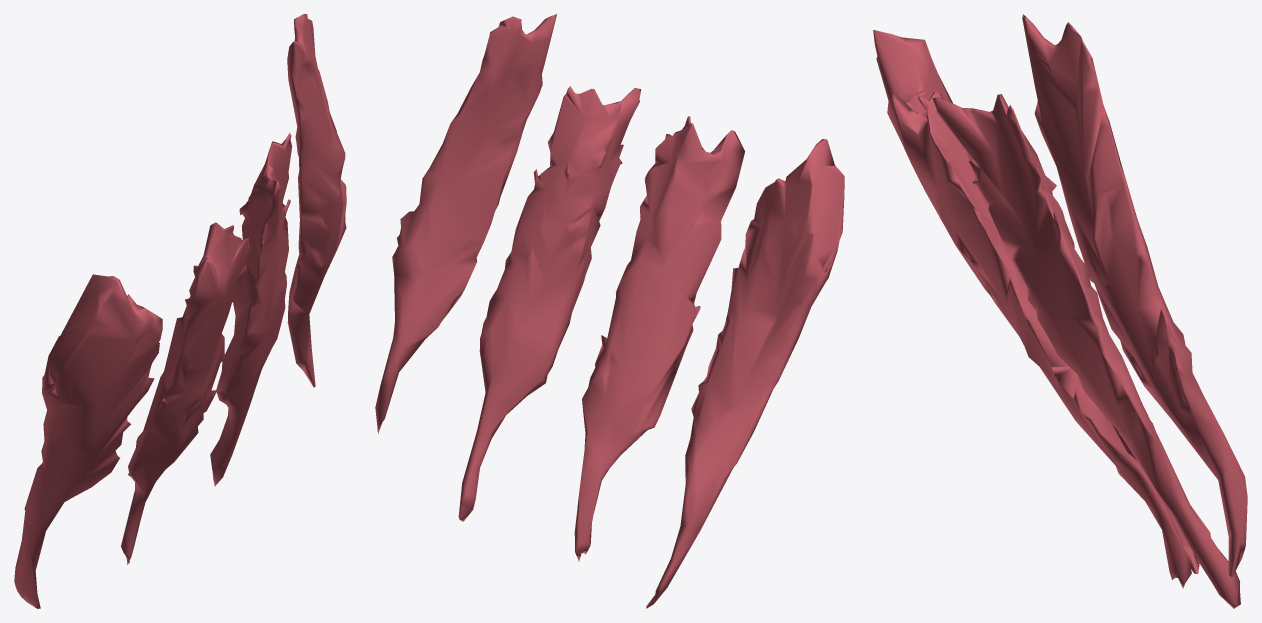
3 views of the same model, side by side, from view 1: azimuth 30°, elevation 25°; view 2: azimuth 150°, elevation 25°; view 3: azimuth 270°, elevation 25° (orthographic). The views are drawn at different scales.
Visible parts, largest first — view 1: 左侧足骨间背侧肌; view 2: 左侧足骨间背侧肌; view 3: 左侧足骨间背侧肌.
Boxes of the visible parts, x1,y1,x2,y2 form: 左侧足骨间背侧肌: [14, 14, 346, 608]; 左侧足骨间背侧肌: [375, 14, 844, 608]; 左侧足骨间背侧肌: [873, 14, 1247, 608].
Bounding box in the file's own units: 0.0756 × 0.1064 × 0.0543.
